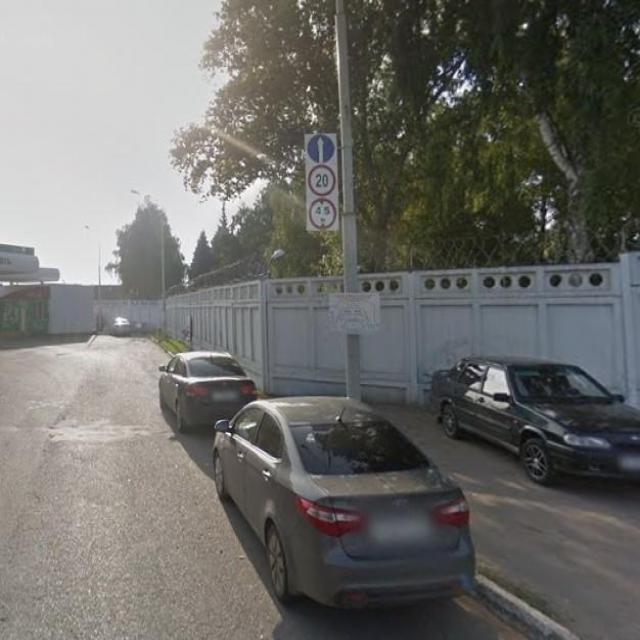traffic_sign: (306, 162, 339, 200)
